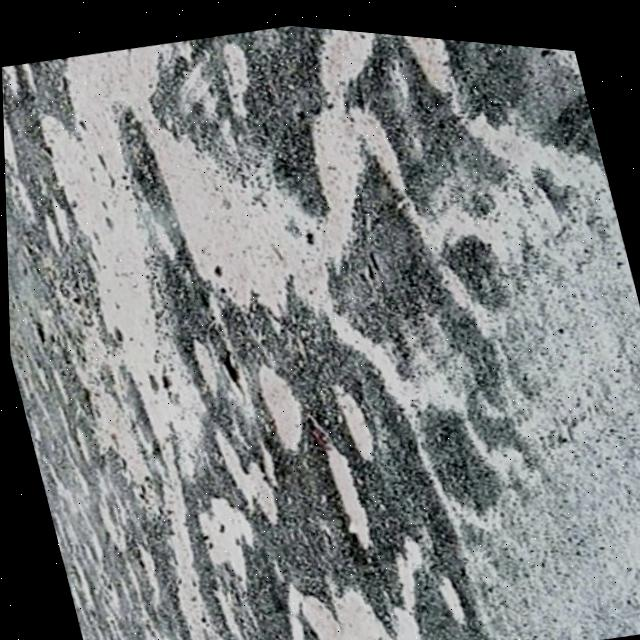Pothole: (0, 0, 496, 443), (61, 485, 503, 640), (285, 20, 496, 145), (317, 282, 462, 435), (450, 31, 591, 131), (169, 475, 272, 599), (199, 399, 292, 530), (307, 430, 387, 540), (254, 360, 336, 467), (312, 369, 389, 481), (417, 555, 495, 624)
